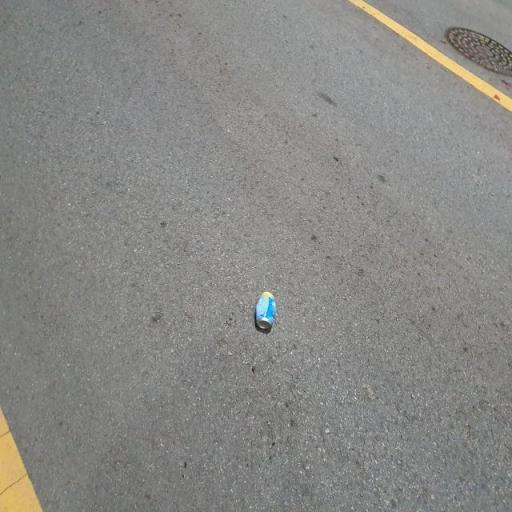metal: (250, 263, 300, 342)
